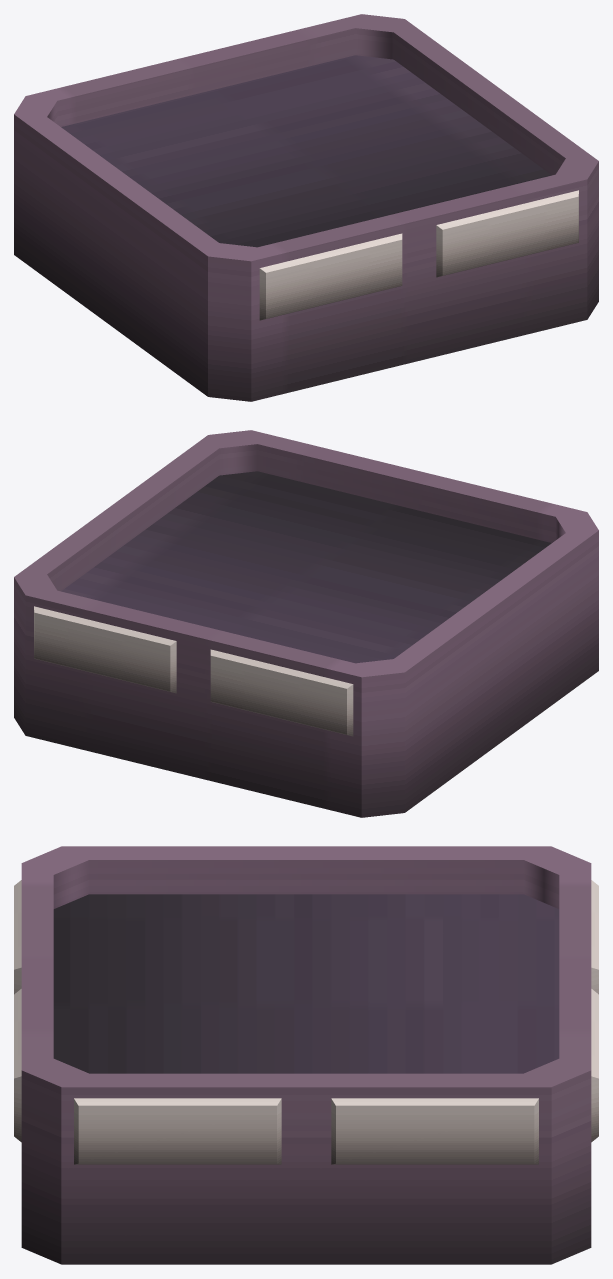
File: SM_Scifi_Box_.fbx
The picture shows the model from 3 angles, top to bottom: view 1: azimuth 30°, elevation 25°; view 2: azimuth 150°, elevation 25°; view 3: azimuth 270°, elevation 25°; orthographic projection. The views are drawn at different scales.
Visible parts, largest first — view 1: Scifi_Box_; view 2: Scifi_Box_; view 3: Scifi_Box_.
Boxes of the visible parts, x1,y1,x2,y2 form: Scifi_Box_: [14, 14, 598, 401]; Scifi_Box_: [14, 430, 598, 817]; Scifi_Box_: [14, 846, 598, 1264].
Size of the model in its own units: 136 by 46.1 by 138.
Materials: 1 (1 with a texture image).
